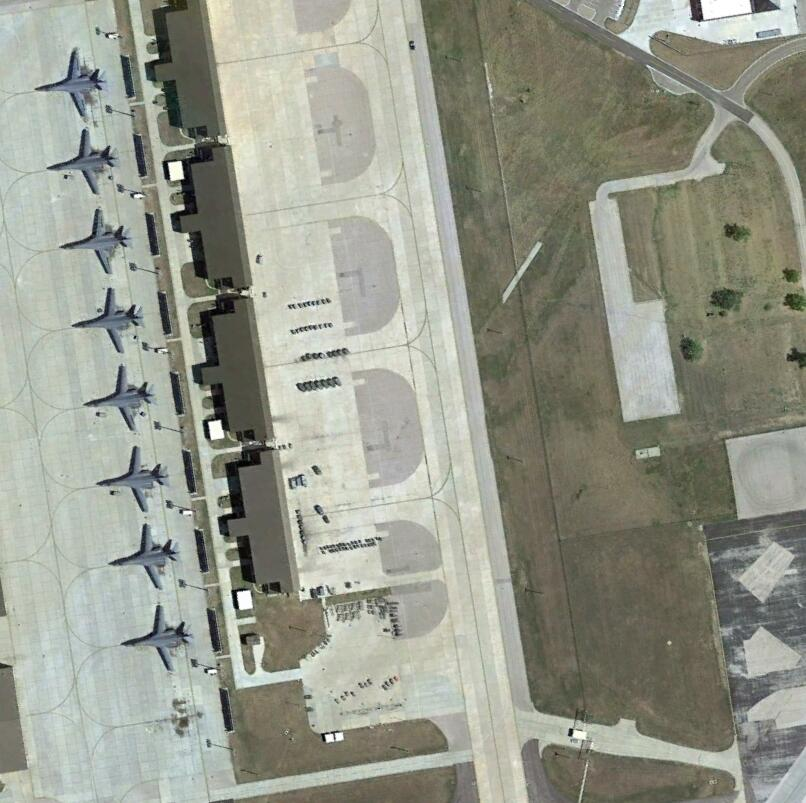A10: (31, 46, 116, 123), (78, 362, 159, 435), (96, 443, 175, 517), (56, 205, 135, 278), (71, 284, 150, 357), (44, 126, 121, 198), (105, 523, 184, 592), (120, 602, 195, 674)
